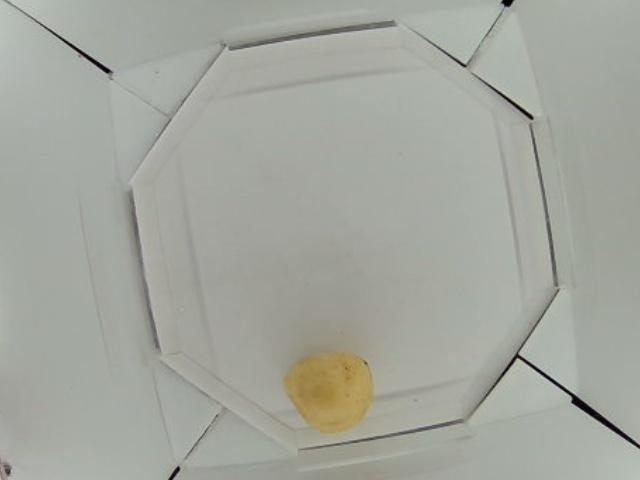Potato: (287, 350, 379, 435)
